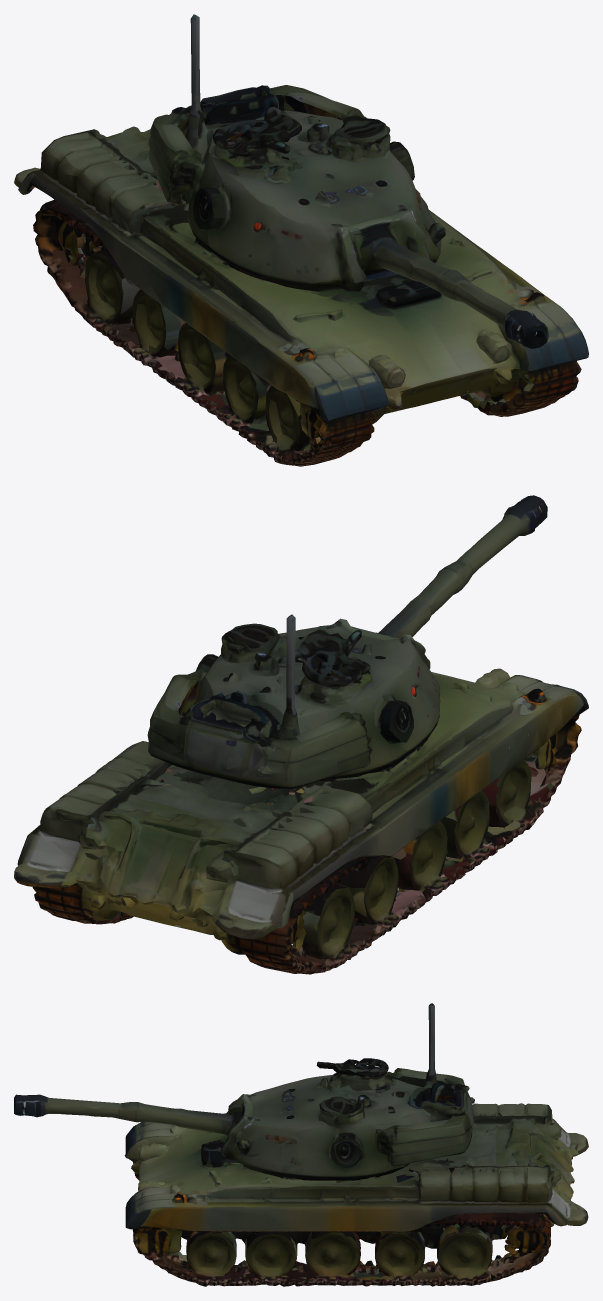
3 renders of one model, top to bottom at view 1: azimuth 30°, elevation 25°; view 2: azimuth 150°, elevation 25°; view 3: azimuth 270°, elevation 25°, orthographic. The views are drawn at different scales.
Visible parts, largest first — view 1: textured_mesh; view 2: textured_mesh; view 3: textured_mesh.
Boxes of the visible parts, box(x1,y1,x2,y2) form: textured_mesh: box(14, 14, 588, 466); textured_mesh: box(14, 495, 588, 974); textured_mesh: box(14, 1003, 588, 1286).
Size of the model in its own units: 0.7542 by 0.8519 by 1.98.
Materials: 1 (1 with a texture image).
